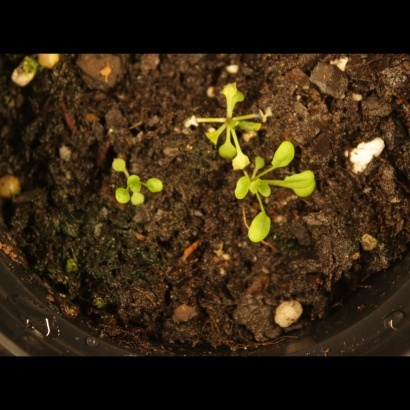leaf: (247, 207, 277, 250), (285, 167, 319, 201), (218, 81, 250, 110), (268, 139, 297, 170), (228, 173, 251, 202), (236, 116, 264, 139), (106, 151, 129, 174), (146, 171, 169, 194), (108, 186, 131, 209), (132, 191, 155, 214), (123, 171, 146, 194), (197, 126, 220, 149), (216, 138, 239, 161), (230, 150, 253, 173), (248, 151, 271, 174), (251, 176, 274, 199)
